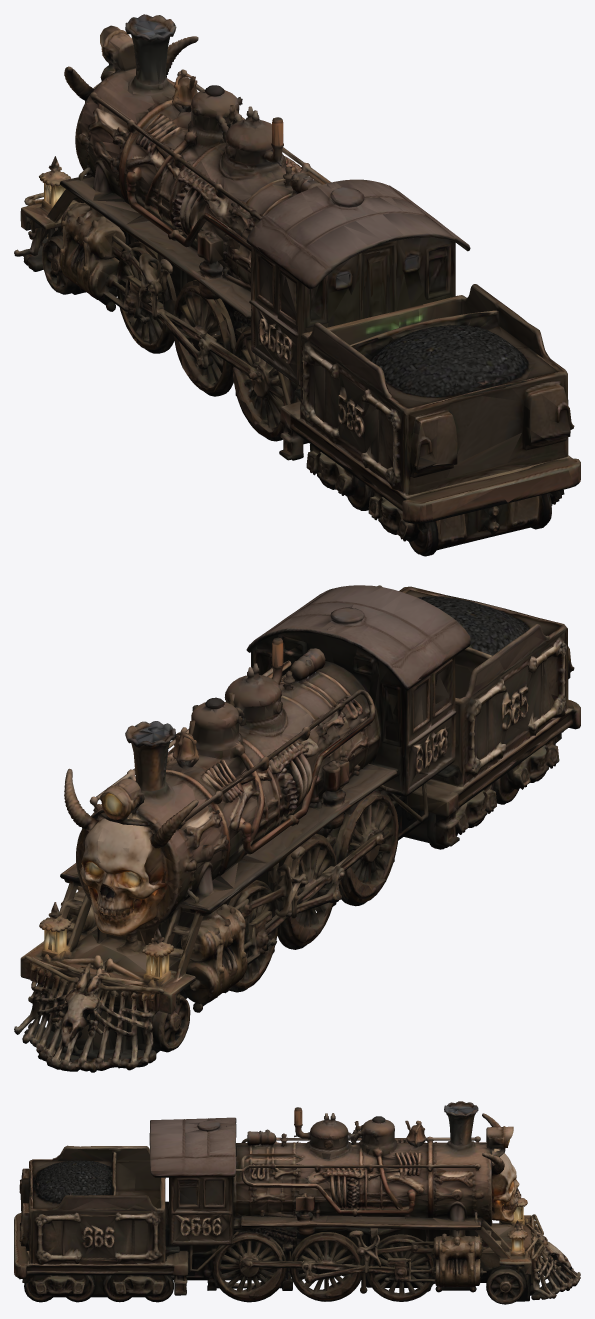
File: Train_decimated.fbx
3 views of the same model, one above another, from view 1: azimuth 30°, elevation 25°; view 2: azimuth 150°, elevation 25°; view 3: azimuth 270°, elevation 25° (orthographic). The views are drawn at different scales.
Parts seen in each view (by area): view 1: tripo_node_868e93ae; view 2: tripo_node_868e93ae; view 3: tripo_node_868e93ae.
Part boxes in pixels (x1,y1,x2,y2): tripo_node_868e93ae: [14, 14, 580, 556]; tripo_node_868e93ae: [14, 585, 580, 1072]; tripo_node_868e93ae: [14, 1101, 580, 1304].
Bounding box in the file's own units: 22.57 × 34.29 × 98.05.
1 material, 1 textured.
